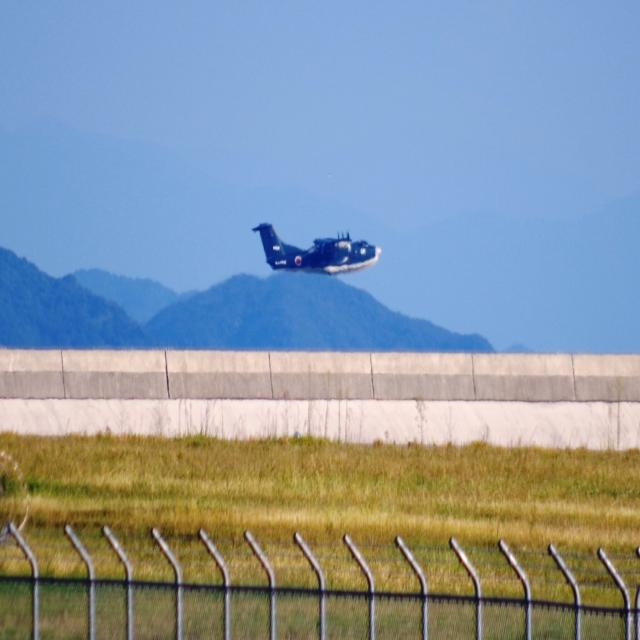MIL_Plane: (250, 221, 382, 276)
